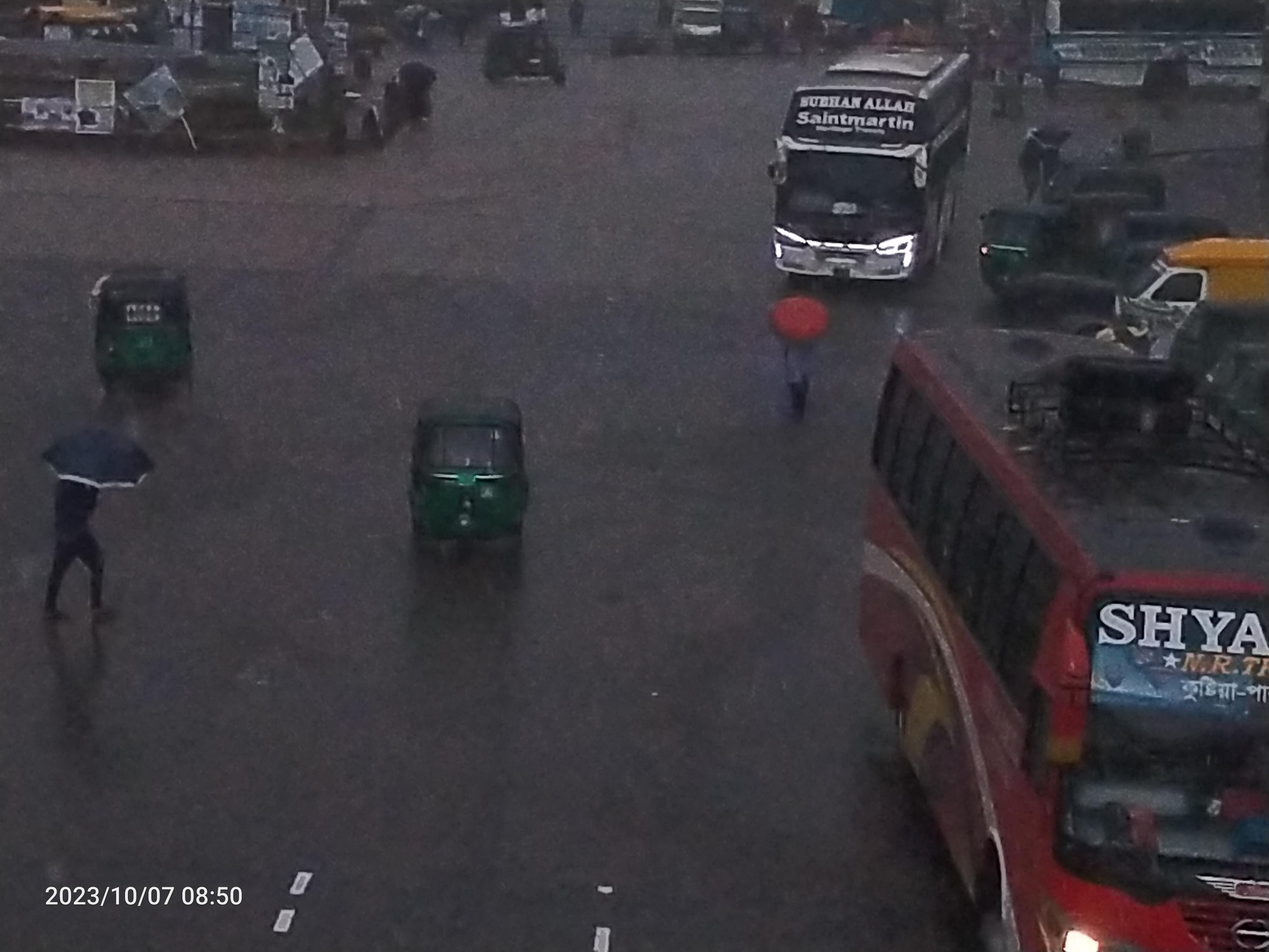Bus: (823, 305, 1269, 952), (749, 12, 983, 349), (1020, 0, 1269, 115)
Car: (1107, 220, 1269, 352), (650, 3, 748, 51)
